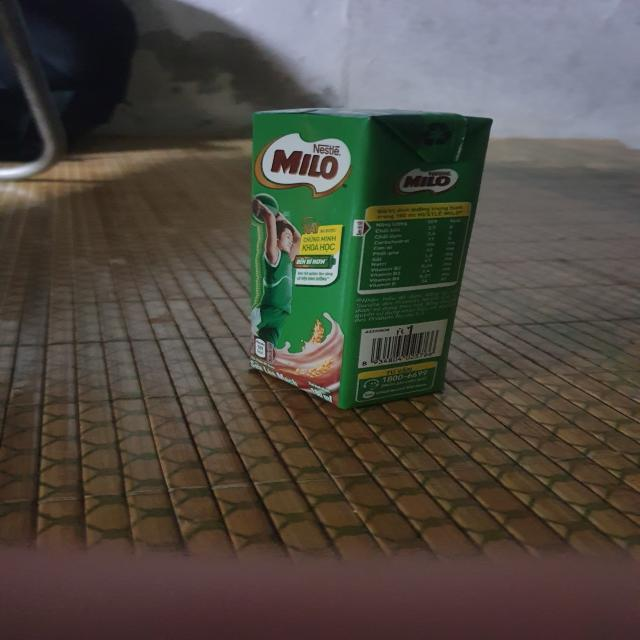Milo: (255, 104, 498, 412)
